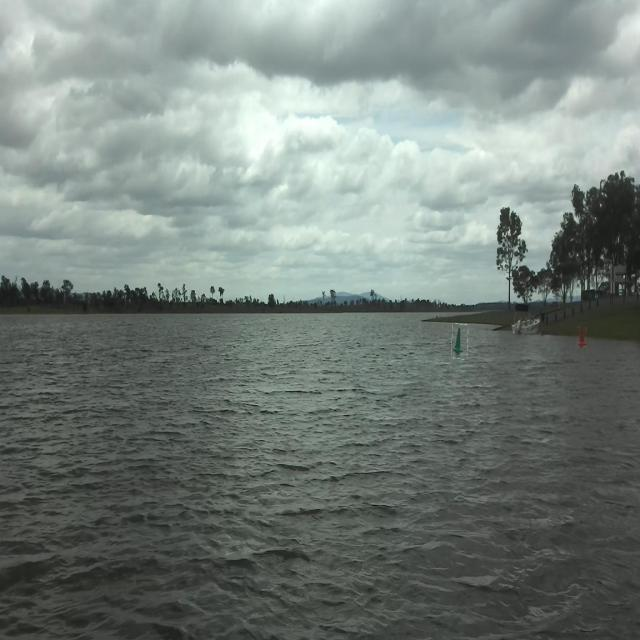Green_Buoy: (448, 313, 470, 361)
Red_Buoy: (575, 322, 591, 347)
